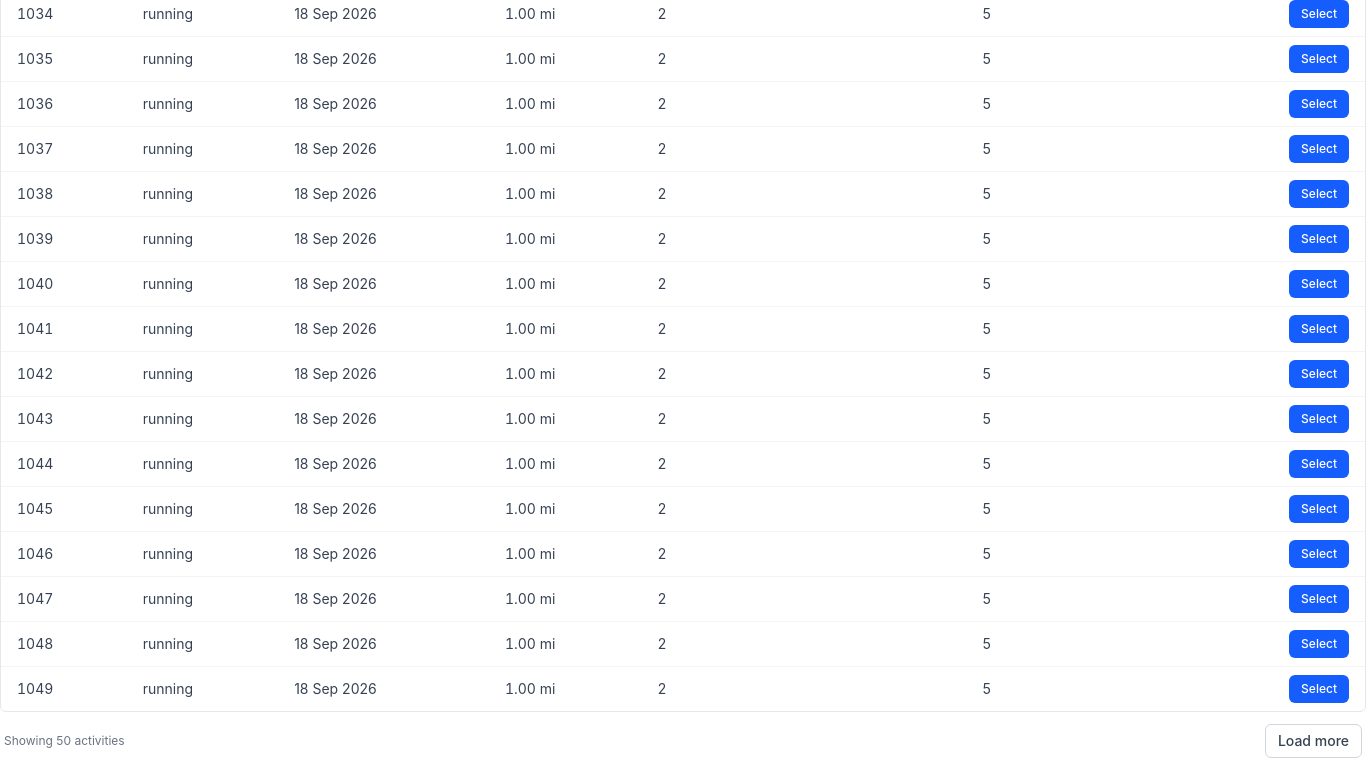
Test case: ActivitySourceList › offers Load more only while a full page came back
This screenshot has width=1366, height=758.
(page scrolled)
Expected: the text "Showing 50 activities" is shown, [4,733,125,749]
Step 1. Click the button "Load more" → (1313, 741), box [1265,724,1362,757]
(page scrolled)
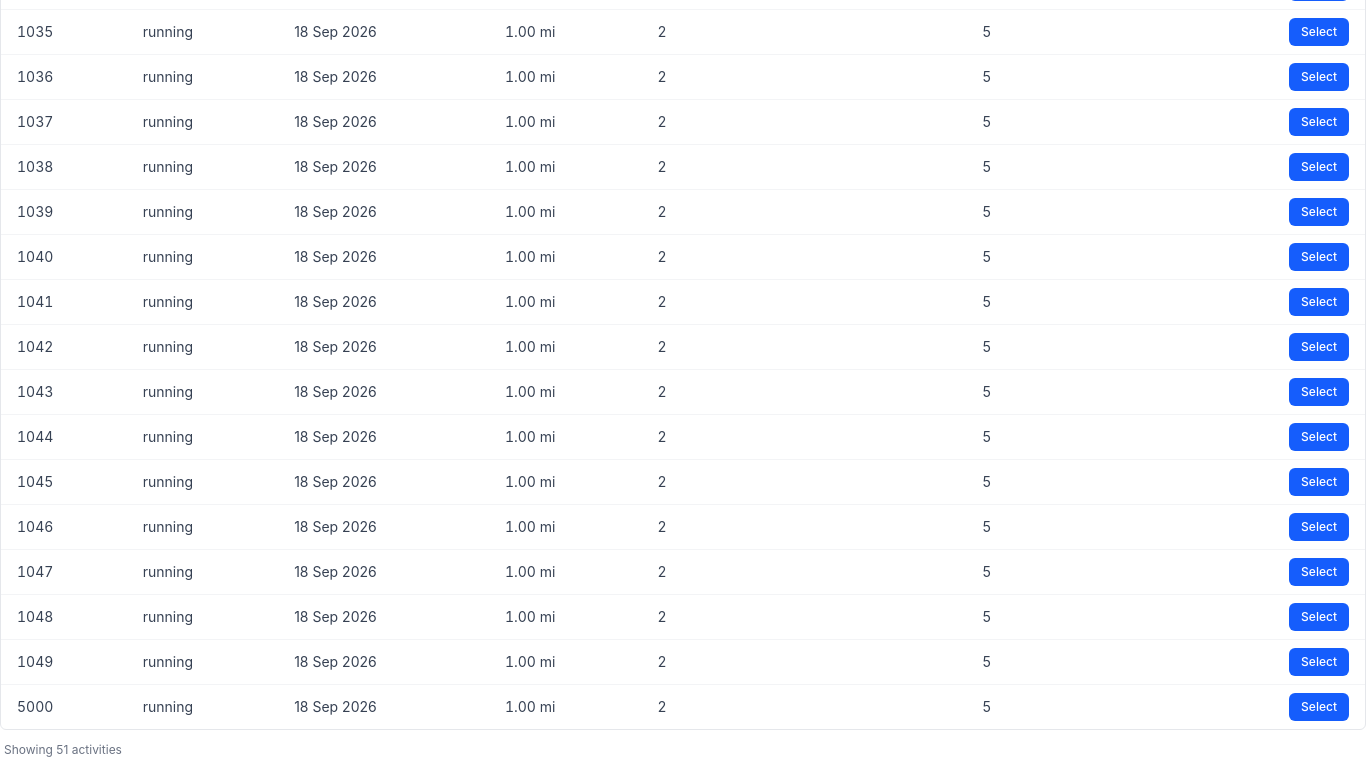
Expected: the text "Showing 51 activities" is shown, [4,742,122,757]
Expected: the button "Load more" is gone
